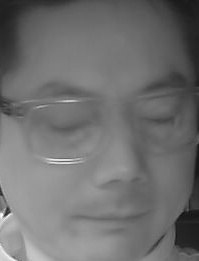glass: (26, 97, 101, 161), (129, 88, 198, 152)
mouth: (71, 197, 148, 242)
